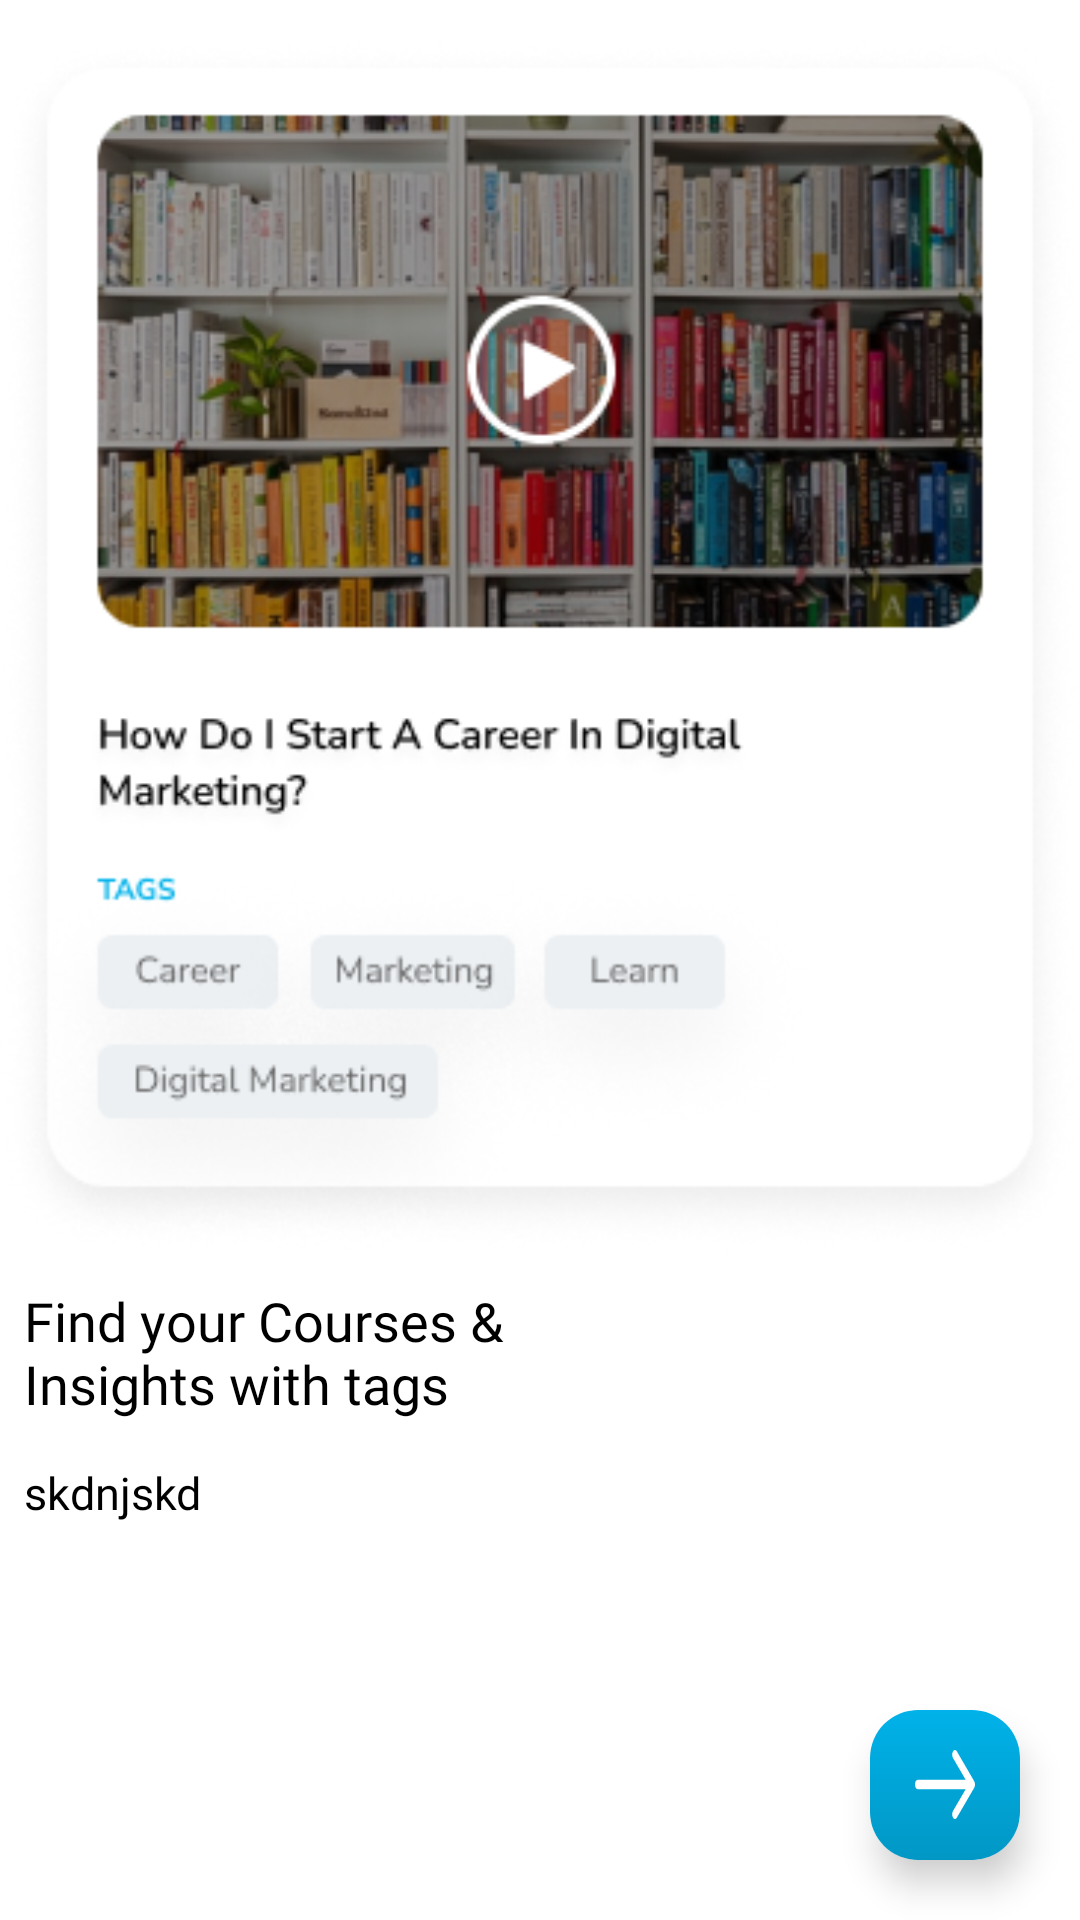

Icon bounding boxes for this 1080*1920 phone screenshot, format {"left": x1, "top": y1, "right": x2, "bottom": y2}:
arrow: {"left": 915, "top": 1750, "right": 975, "bottom": 1819}
